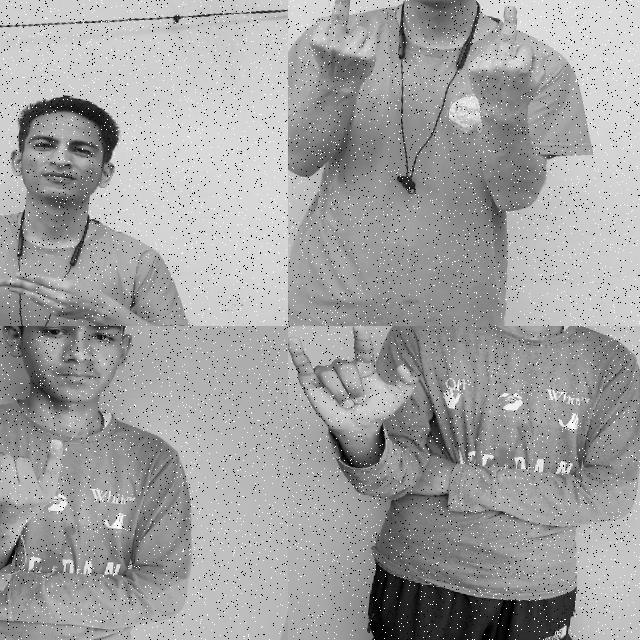Corna: (288, 326, 425, 454), (0, 405, 89, 561)
Five Fathers: (0, 228, 129, 326)
Middle Finger: (454, 0, 557, 132), (299, 0, 387, 109)
